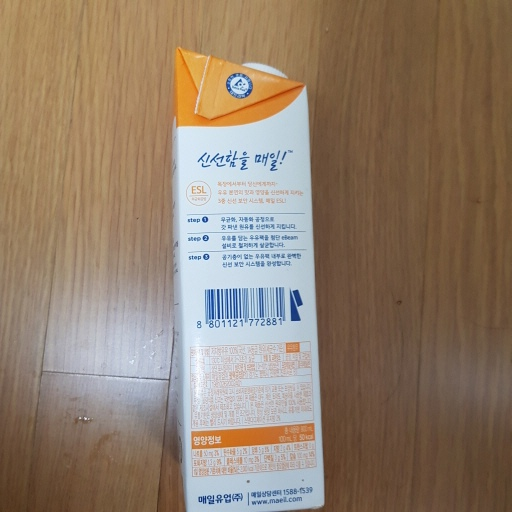Paper_0: (167, 46, 333, 512)
